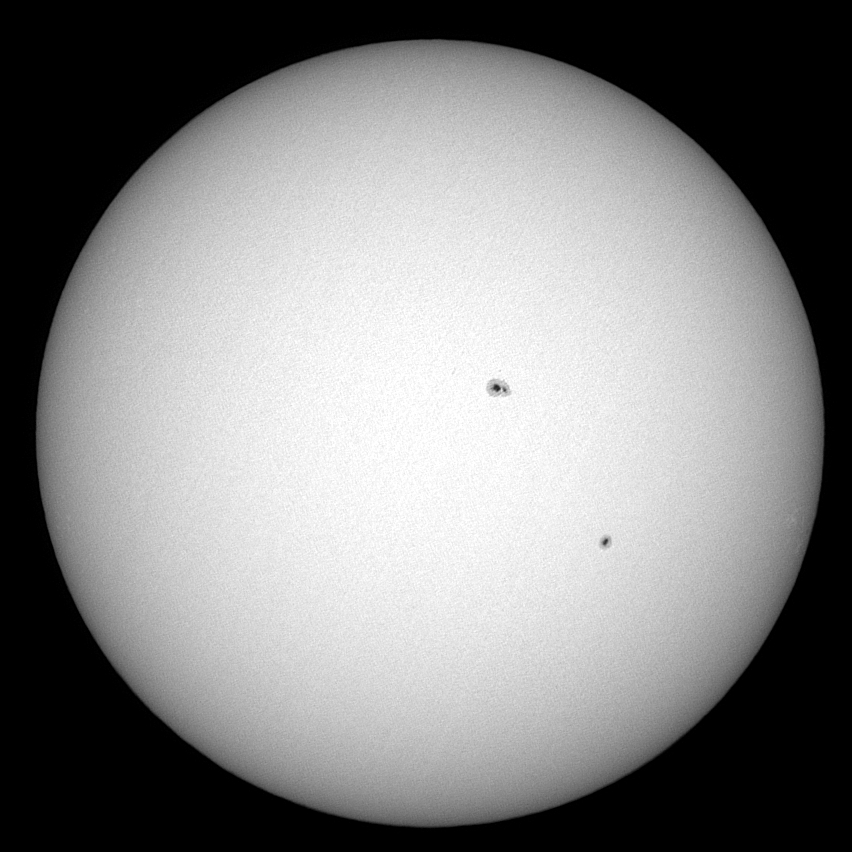sunspot: (483, 376, 515, 399), (597, 532, 614, 551)
